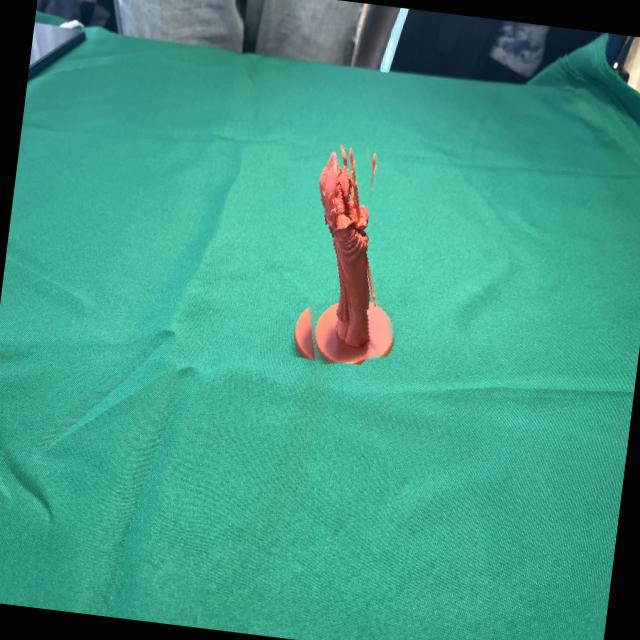amon: (276, 136, 408, 370)
